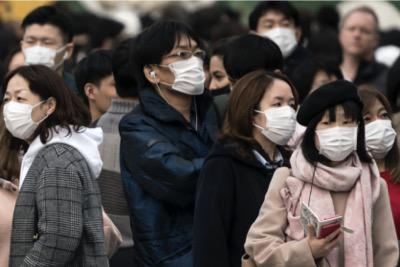with_mask: (312, 114, 359, 163), (358, 106, 396, 163), (257, 95, 299, 146), (168, 44, 207, 95), (1, 89, 38, 142), (256, 17, 298, 58), (21, 34, 58, 71)
without_mask: (339, 23, 376, 56)
